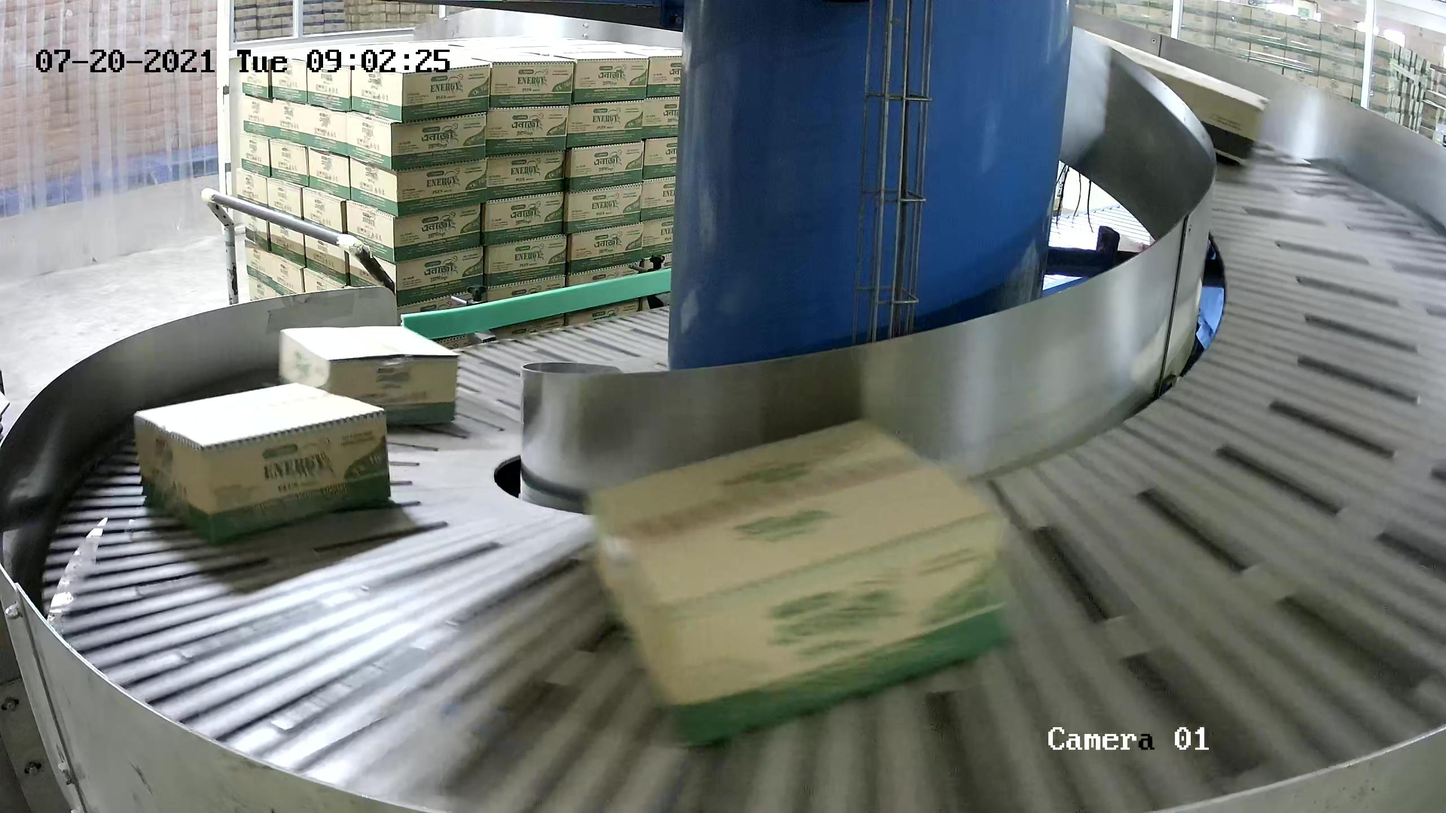Box: (583, 417, 1012, 752), (134, 381, 394, 542), (1043, 22, 1268, 170), (279, 326, 460, 431)
